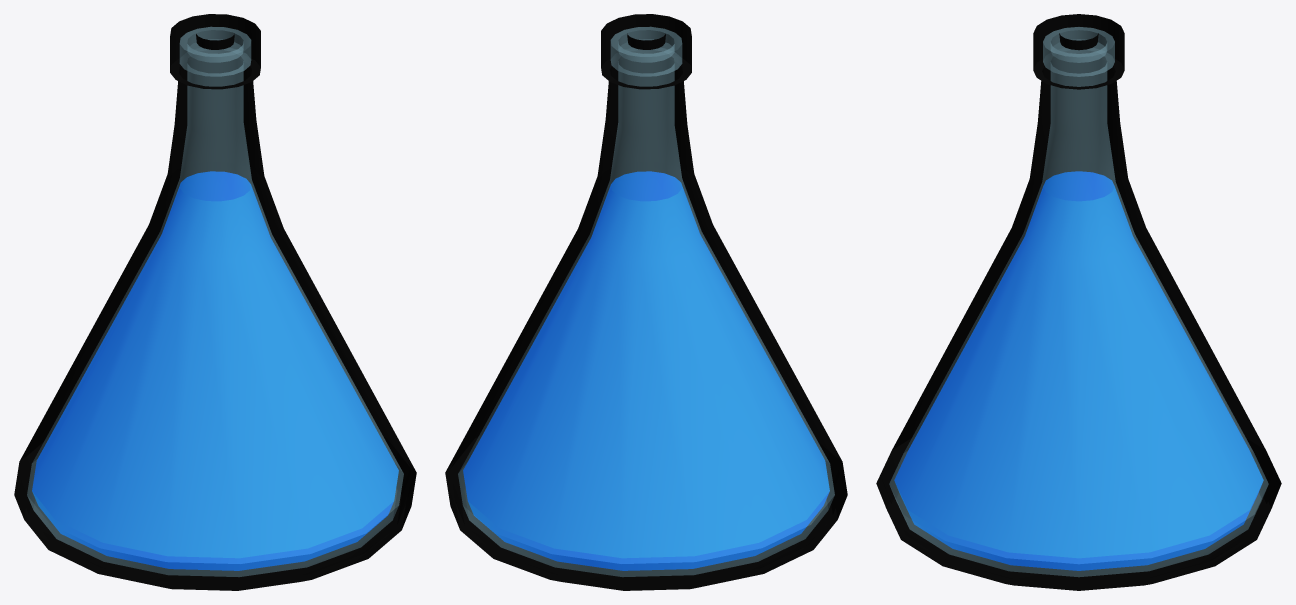
File: azul lapislazuli.fbx
3 views of the same model, side by side, from view 1: azimuth 30°, elevation 25°; view 2: azimuth 150°, elevation 25°; view 3: azimuth 270°, elevation 25° (orthographic).
Visible parts, largest first — view 1: azul like the sky; view 2: azul like the sky; view 3: azul like the sky.
Part boxes in pixels (x1,y1,x2,y2): azul like the sky: (14, 14, 416, 590); azul like the sky: (445, 14, 847, 590); azul like the sky: (876, 14, 1281, 590).
Bounding box in the file's own units: 22.13 × 29.31 × 22.13.
